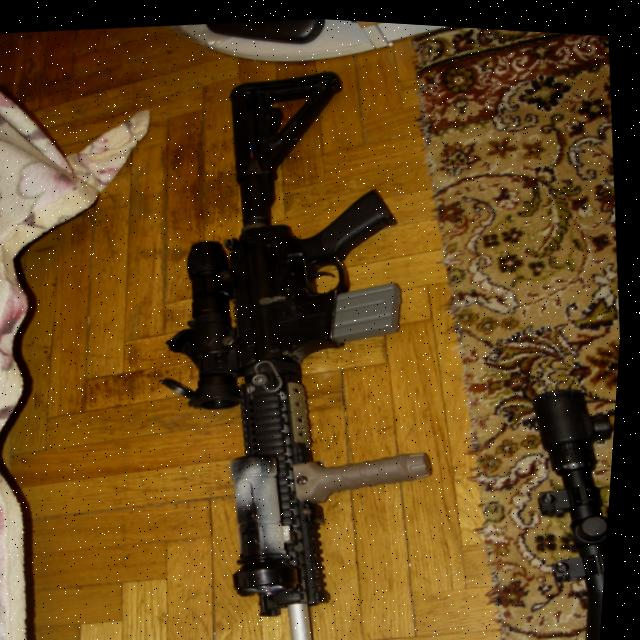firearm: (118, 48, 474, 640)
